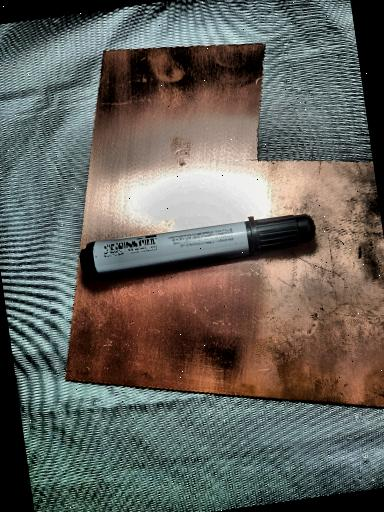marcador negro: (79, 215, 314, 278)
